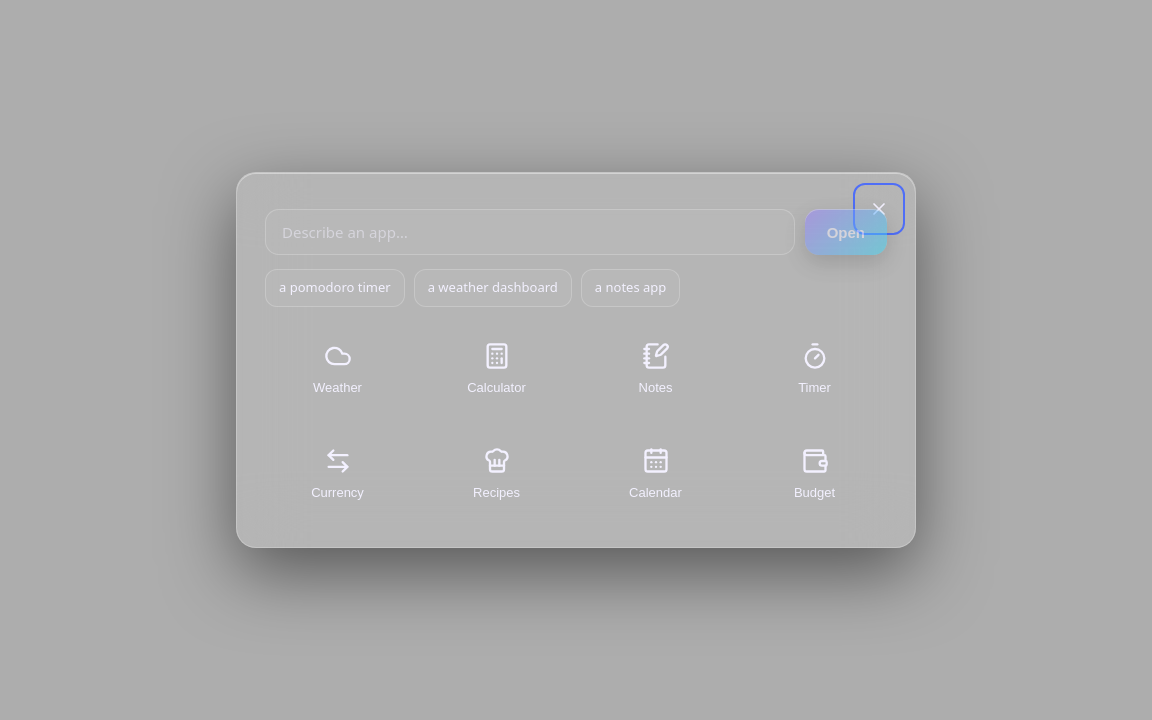
Scenario: SearchLauncherPanel › isWorking=false state › submit button is NOT disabled (assuming non-empty input) when isWorking=false
Type some text so the button is not disabled due to empty input.
Type "a timer" into the field with placeholder "Describe an app…".
click(530, 232); type("a timer")  # box x1=265 y1=209 x2=795 y2=255
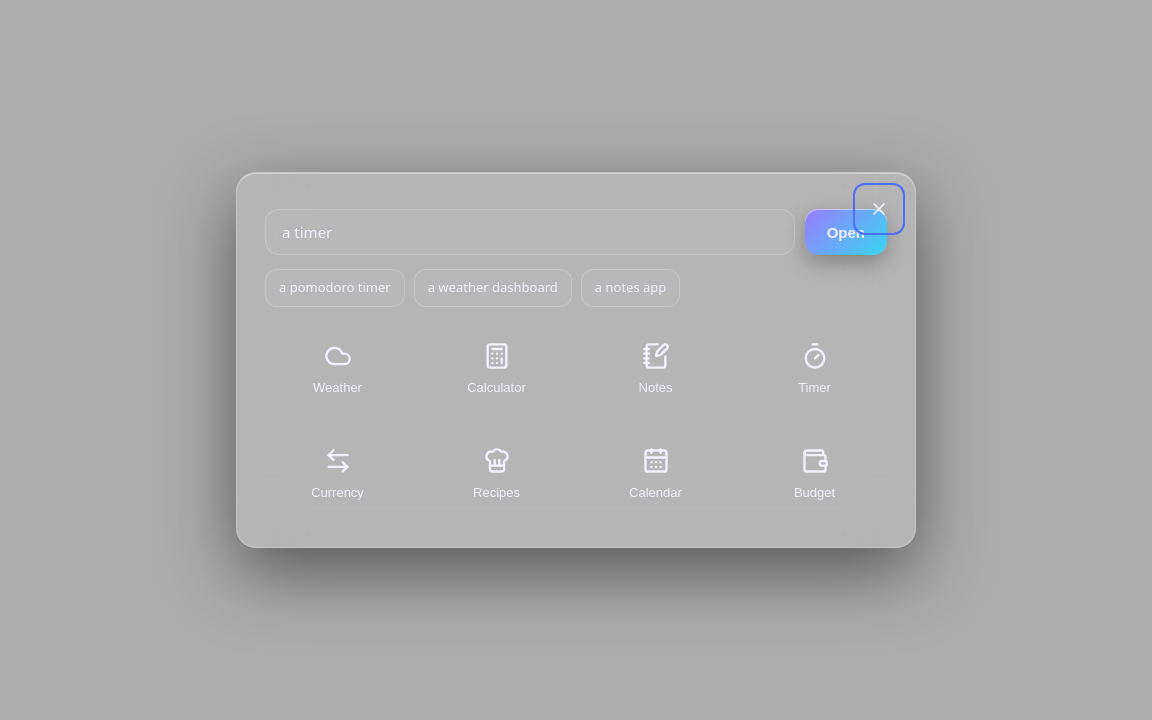
Result: the button "Open" is enabled at x1=805 y1=209 x2=887 y2=255
